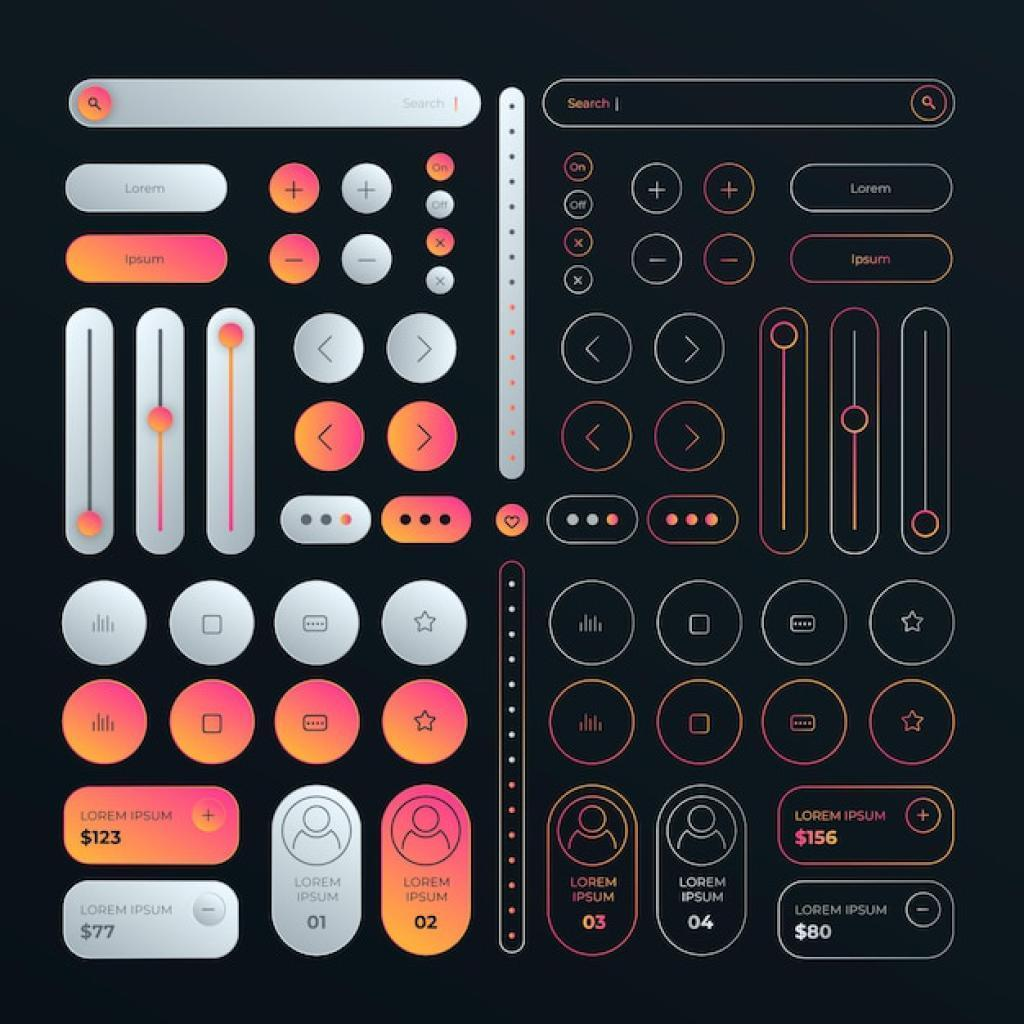button: (778, 880, 957, 961), (777, 786, 957, 866), (65, 787, 241, 867), (65, 881, 240, 957), (787, 234, 958, 288), (67, 232, 231, 288), (66, 163, 231, 214), (792, 166, 954, 217)
checkbox: (201, 614, 226, 637), (690, 714, 713, 737), (689, 614, 711, 638), (202, 713, 224, 736)
icon: (399, 415, 448, 460), (312, 419, 347, 457), (894, 706, 930, 742), (311, 332, 343, 370), (412, 333, 440, 370), (89, 608, 120, 639), (350, 176, 383, 205), (583, 422, 607, 461), (683, 419, 706, 459), (575, 710, 607, 738), (682, 332, 706, 369), (281, 175, 310, 204), (575, 611, 605, 637), (899, 611, 927, 638), (585, 332, 606, 367), (789, 713, 822, 735), (790, 612, 819, 637), (413, 609, 439, 636), (413, 709, 439, 736), (644, 177, 670, 204), (91, 712, 119, 737), (355, 249, 382, 274), (302, 614, 332, 636), (302, 714, 330, 735), (282, 251, 308, 272), (720, 179, 740, 204), (644, 254, 671, 271), (719, 254, 743, 269)
input: (542, 79, 958, 130), (70, 79, 483, 128)
slider: (748, 302, 816, 561), (55, 292, 118, 568), (129, 296, 192, 567), (202, 300, 265, 560), (895, 309, 961, 554), (828, 302, 883, 564)
